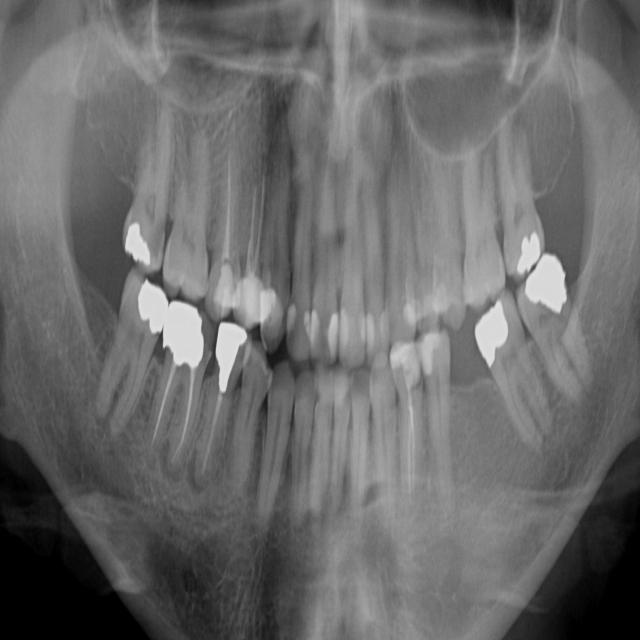dolgu: (515, 245, 581, 330), (501, 209, 556, 284), (121, 271, 168, 338), (474, 304, 518, 362), (117, 219, 154, 269), (394, 342, 422, 384), (214, 270, 240, 314), (421, 332, 446, 373), (256, 284, 278, 326), (402, 286, 420, 332), (362, 312, 380, 357), (324, 310, 342, 354), (309, 306, 322, 354), (286, 296, 300, 335)
kanal-tedavisi: (148, 342, 208, 458), (202, 142, 245, 276), (198, 370, 245, 480), (397, 379, 435, 505), (242, 159, 276, 289)
kaplama: (164, 300, 212, 372), (213, 320, 247, 392)
